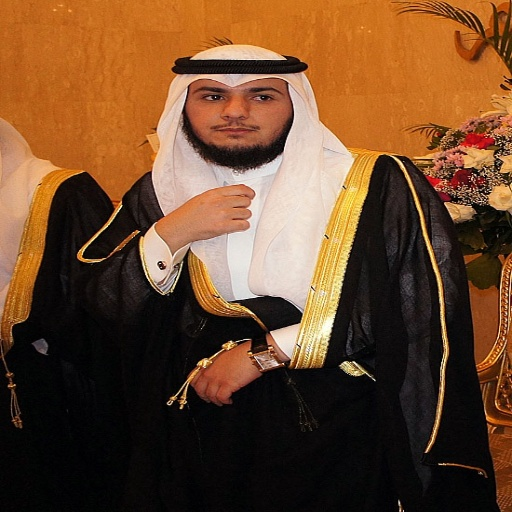hand: (163, 179, 270, 248), (187, 338, 264, 407)
